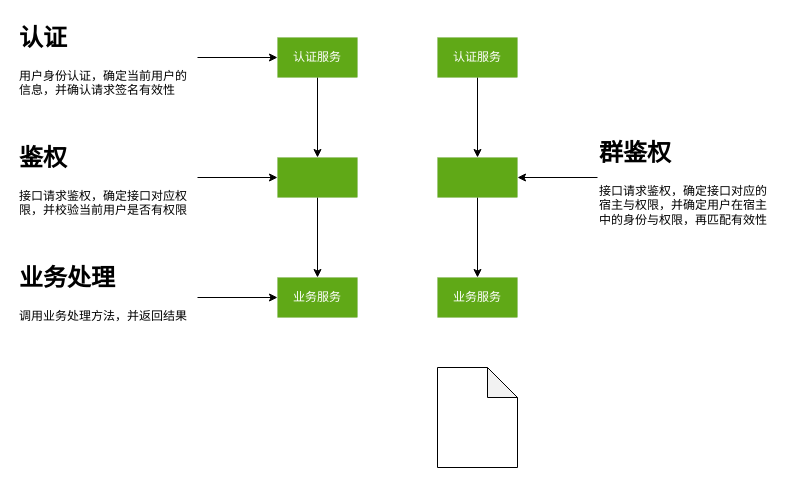
Some shapes in this 794 by 485 pixel diagram are drawn without their labels. Each missing label, with the box of its shape:
GRBAC 鉴权服务: (437, 157, 517, 197)
RBAC 鉴权服务: (277, 157, 357, 197)
